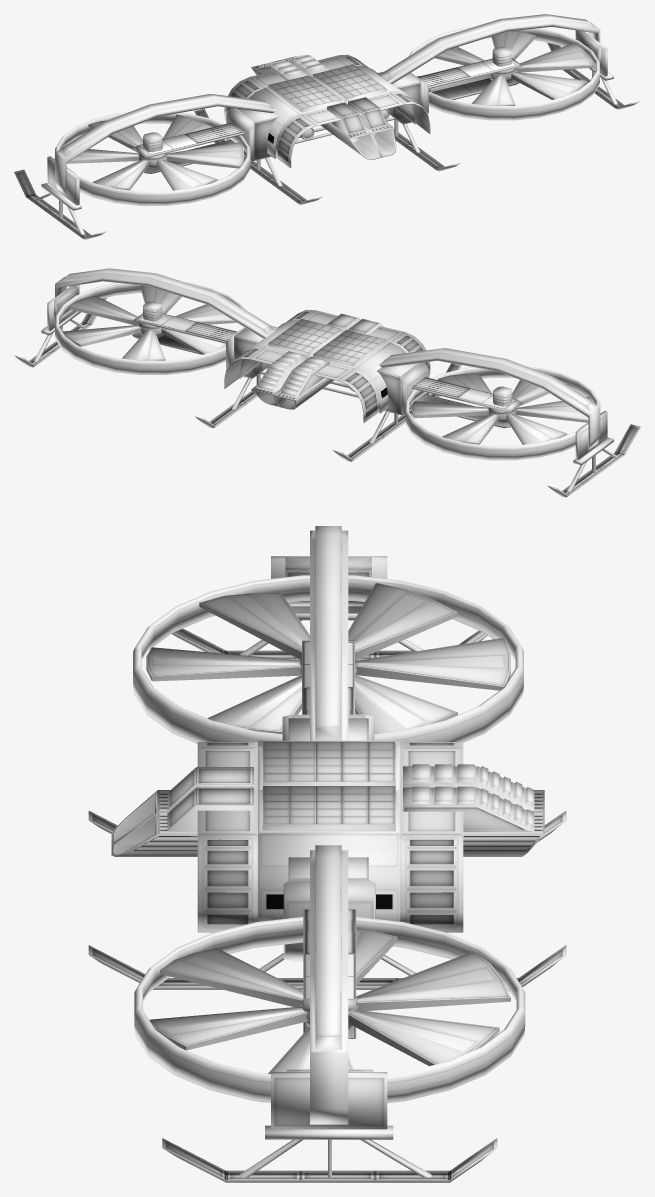
The model's file is drone_model.dae.
3 renders of one model, top to bottom at view 1: azimuth 30°, elevation 25°; view 2: azimuth 150°, elevation 25°; view 3: azimuth 270°, elevation 25°, orthographic. The views are drawn at different scales.
Parts seen in each view (by area): view 1: helicopter, Rotor_L_2, Rotor_R_2, Rotor_R, Rotor_L; view 2: helicopter, Rotor_R_2, Rotor_L_2, Rotor_R, Rotor_L; view 3: helicopter, Rotor_R, Rotor_L, Rotor_L_2, Rotor_R_2.
Part boxes in pixels (<box>): helicopter: <box>14,14,639,239</box>; Rotor_L_2: <box>409,27,600,120</box>; Rotor_R_2: <box>54,108,253,205</box>; Rotor_R: <box>66,114,243,190</box>; Rotor_L: <box>417,30,592,105</box>; helicopter: <box>14,268,640,497</box>; Rotor_R_2: <box>401,362,601,460</box>; Rotor_L_2: <box>54,282,244,374</box>; Rotor_R: <box>411,373,592,444</box>; Rotor_L: <box>62,285,236,360</box>; helicopter: <box>88,526,566,1182</box>; Rotor_R: <box>146,583,510,734</box>; Rotor_L: <box>149,927,510,1073</box>; Rotor_L_2: <box>134,878,525,1103</box>; Rotor_R_2: <box>133,557,523,743</box>.
Bounding box in the file's own units: 0.772 × 0.2938 × 0.1241.
1 material, 1 textured.
